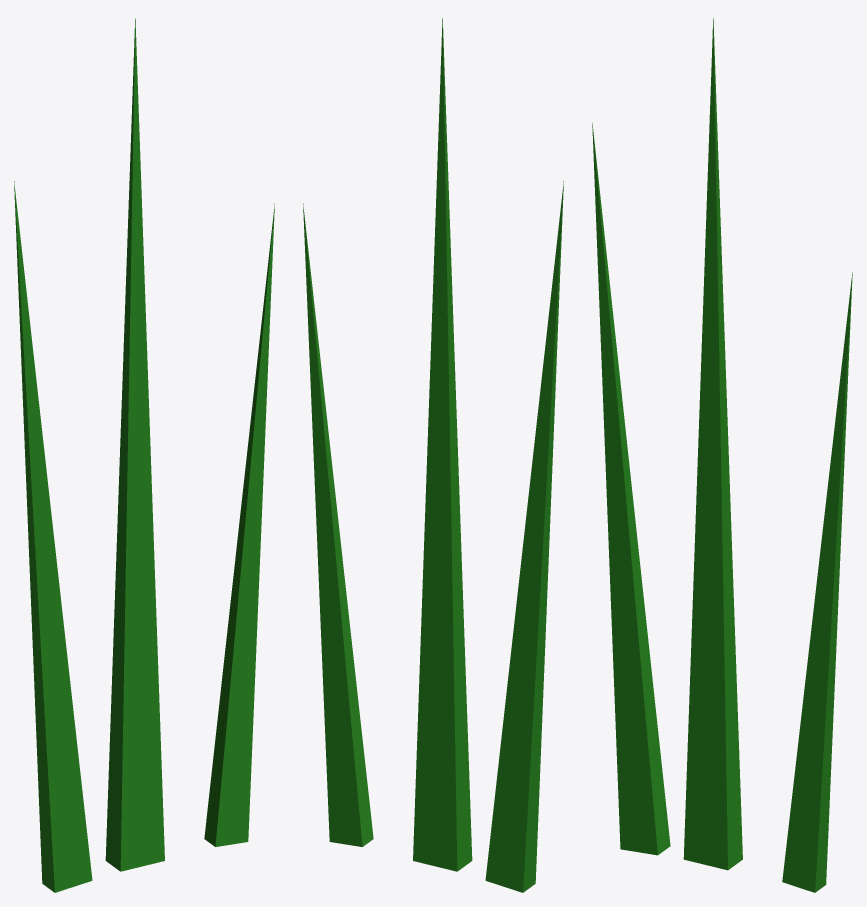
The model's file is grass2.glb.
3 views of the same model, side by side, from view 1: azimuth 30°, elevation 25°; view 2: azimuth 150°, elevation 25°; view 3: azimuth 330°, elevation 25° (orthographic).
Visible parts, largest first — view 1: Grass_2; view 2: Grass_2; view 3: Grass_2.
Boxes of the visible parts, x1,y1,x2,y2 form: Grass_2: (14,18,274,892); Grass_2: (303,18,563,892); Grass_2: (592,18,852,892).
Size of the model in its own units: 0.1375 by 0.4297 by 0.0136.
Materials: 1 (1 with a texture image).
